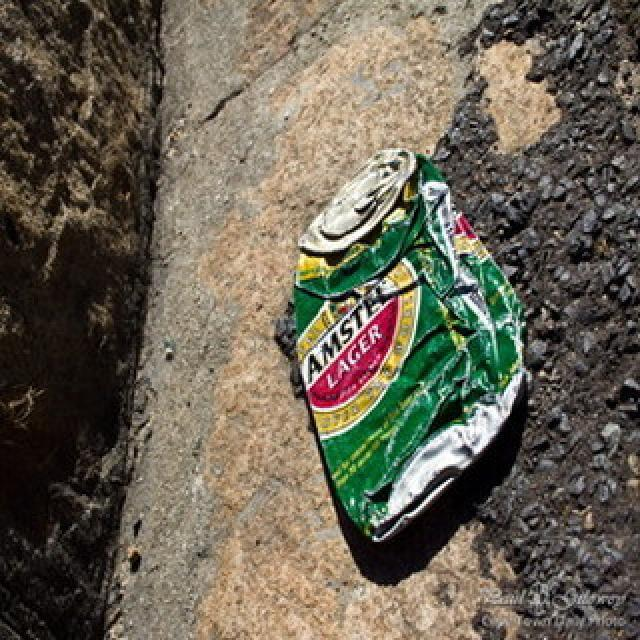recyclable: (284, 148, 527, 534)
